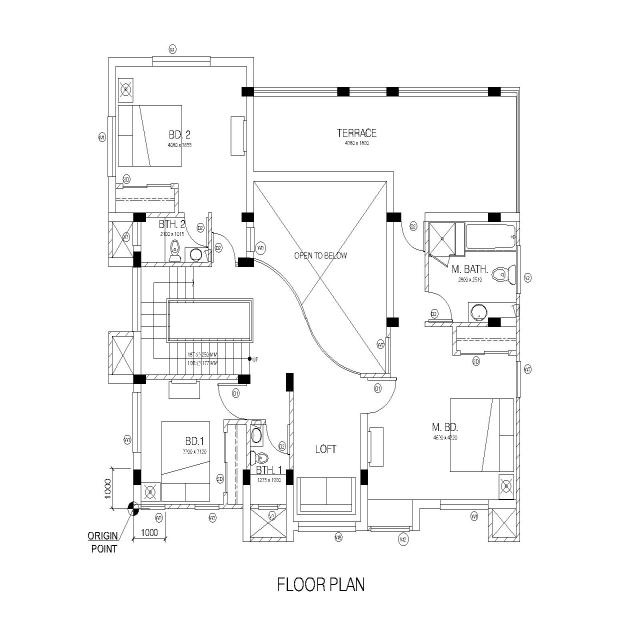Column: (237, 256, 255, 268), (386, 211, 402, 223), (336, 85, 351, 97), (487, 211, 502, 223), (237, 373, 252, 385), (132, 374, 147, 386), (132, 468, 142, 486), (286, 372, 294, 394), (241, 86, 255, 98), (386, 86, 400, 98), (386, 316, 400, 328), (242, 468, 251, 486), (132, 251, 142, 267), (488, 86, 502, 97), (488, 316, 502, 327), (359, 468, 368, 484), (286, 468, 294, 486), (242, 211, 254, 223), (133, 212, 147, 222)
Door: (243, 384, 248, 420), (399, 220, 425, 226), (366, 377, 370, 415), (184, 212, 208, 218), (266, 420, 289, 426), (426, 291, 430, 323), (212, 262, 236, 266), (428, 254, 451, 258)
Sliding Door: (223, 430, 229, 494), (122, 183, 172, 189), (460, 350, 509, 356)
Staircase: (140, 266, 255, 376)
Ventilator: (516, 244, 522, 295), (132, 221, 142, 247), (258, 503, 279, 511)
Window: (298, 520, 357, 533), (439, 498, 489, 511), (132, 390, 142, 452), (107, 116, 117, 178), (152, 56, 210, 66), (140, 500, 167, 510), (246, 227, 256, 253), (370, 526, 411, 532), (516, 359, 522, 398), (193, 503, 220, 511), (386, 336, 390, 374)
